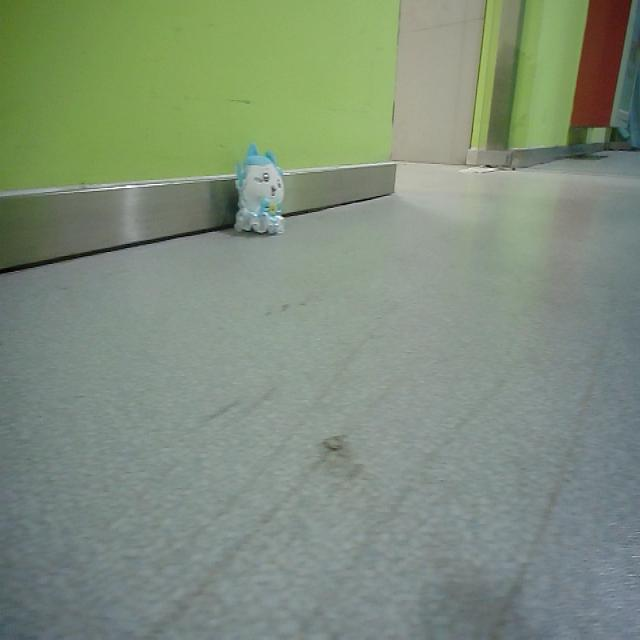xiaoba: (230, 141, 286, 239)
